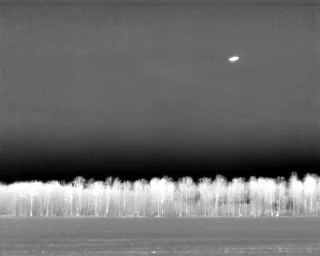DRONE: (226, 52, 243, 66)
